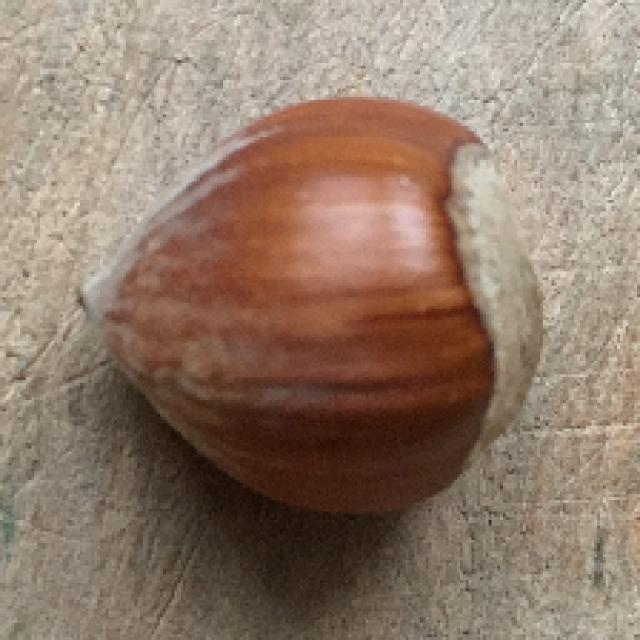QualityHazelnut: (76, 98, 542, 519)
